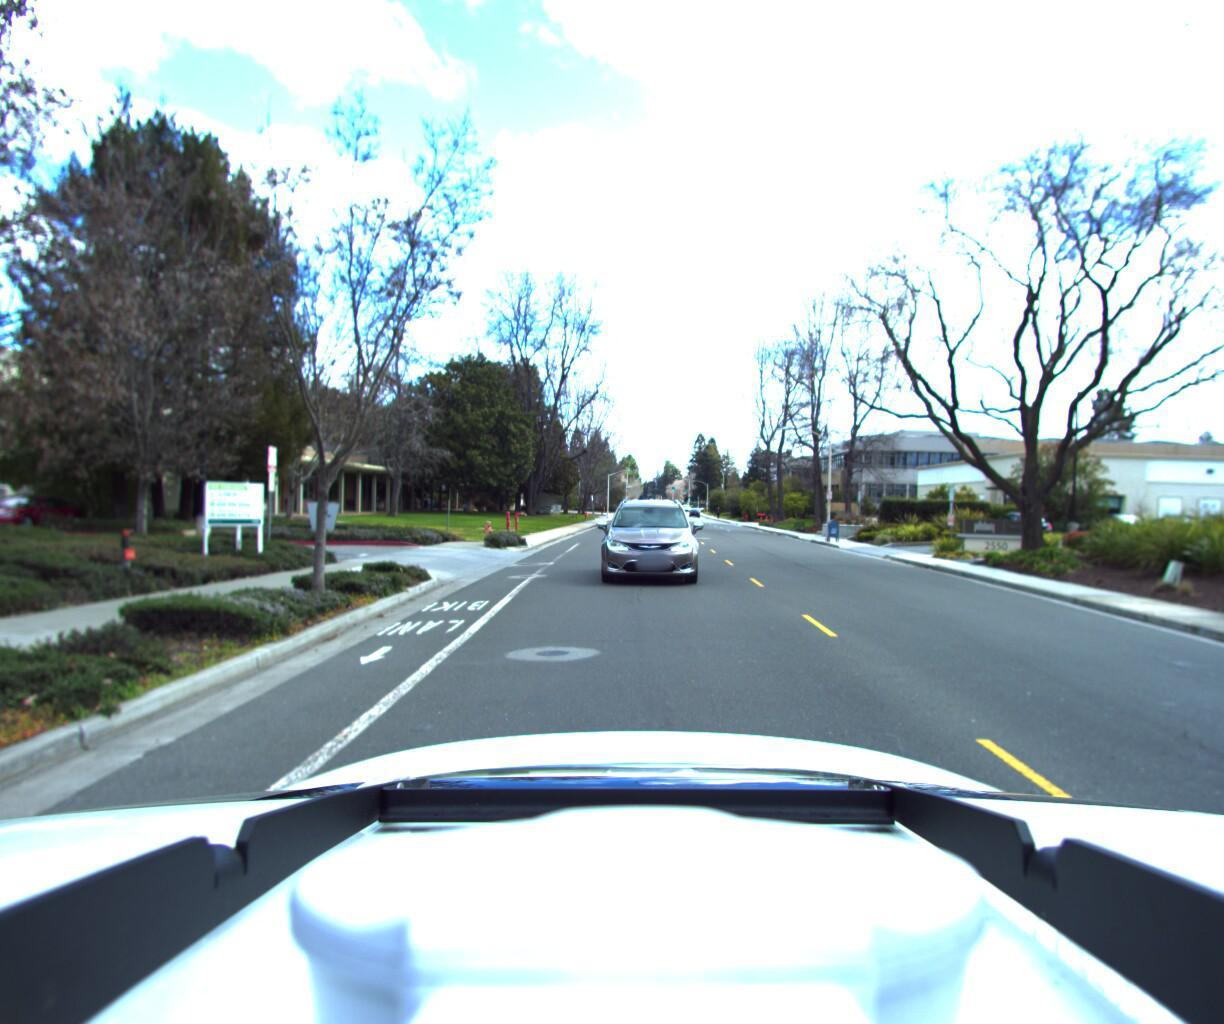car: (590, 495, 698, 594), (979, 515, 1050, 547)
